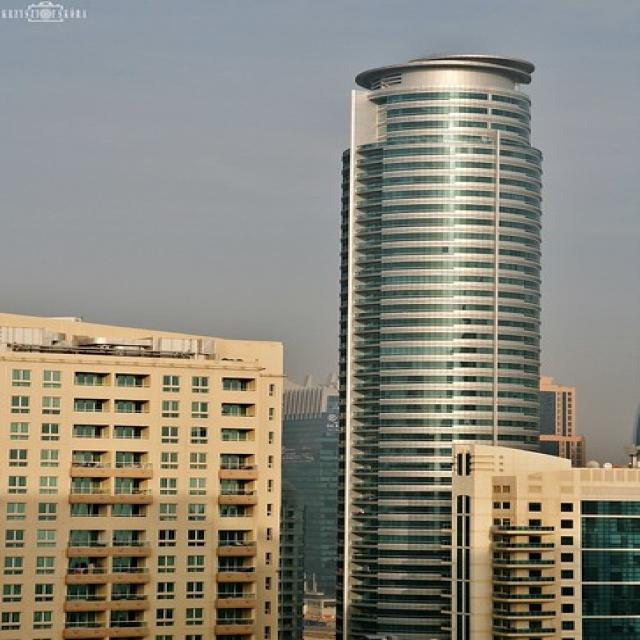building: (330, 48, 557, 640), (446, 436, 640, 640)
